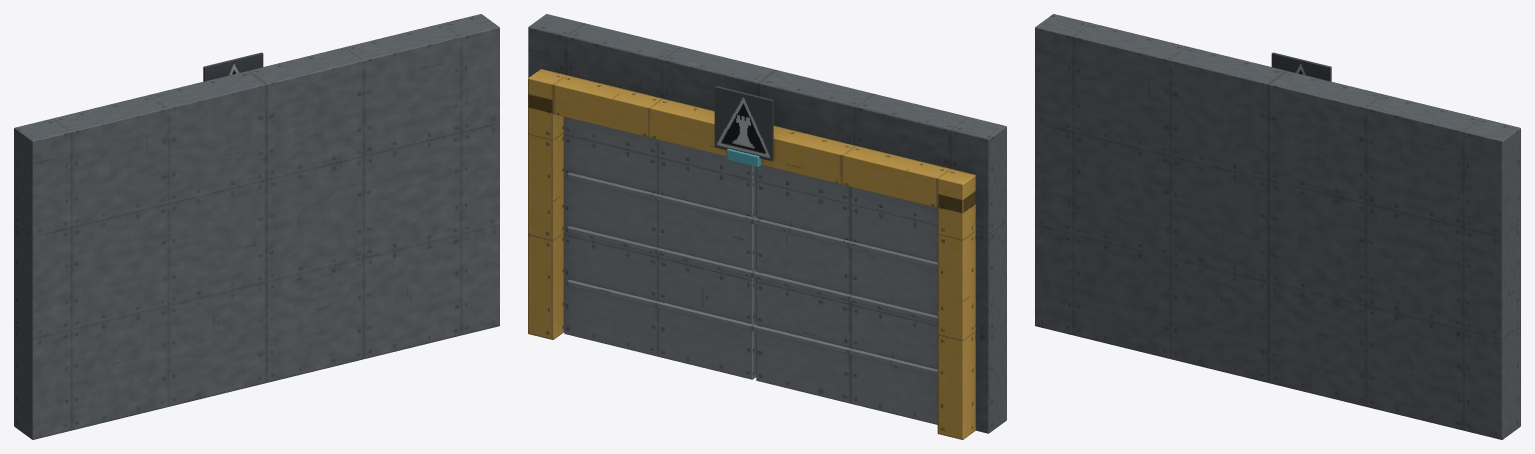
File: base_lift_gate.glb
3 renders of one model, left to right at view 1: azimuth 30°, elevation 25°; view 2: azimuth 150°, elevation 25°; view 3: azimuth 330°, elevation 25°, orthographic.
Visible parts, largest first — view 1: base_lift_gate; view 2: base_lift_gate; view 3: base_lift_gate.
Part boxes in pixels (bbox=[...]): base_lift_gate: bbox=[14, 14, 499, 439]; base_lift_gate: bbox=[528, 14, 1006, 439]; base_lift_gate: bbox=[1035, 14, 1520, 439].
Bounding box in the file's own units: 7.2 × 4.4 × 0.93.
Materials: 5 (5 with a texture image).
